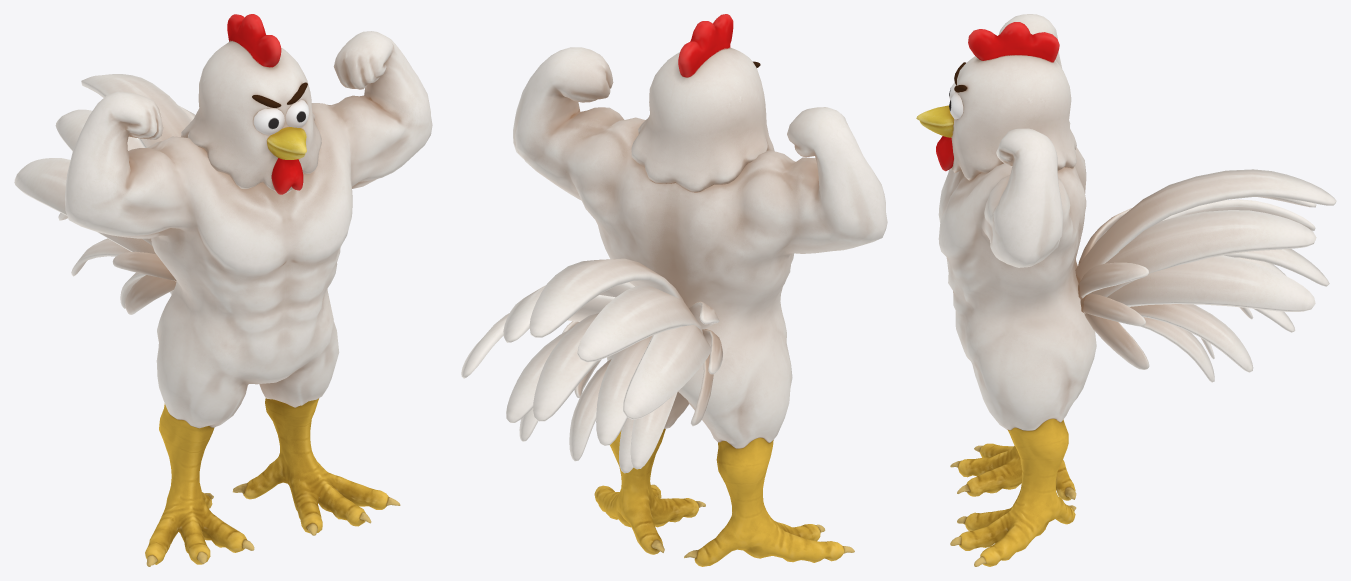
The model's file is strong_chicken.glb.
3 views of the same model, side by side, from view 1: azimuth 30°, elevation 25°; view 2: azimuth 150°, elevation 25°; view 3: azimuth 270°, elevation 25° (orthographic). The views are drawn at different scales.
Visible parts, largest first — view 1: Object006_Chicken_0, Object012_Chicken_0, Object029_Chicken_0, Object013_Chicken_0, Sphere001, Object034_Chicken_0, Object021_Chicken_0, Object033_Chicken_0, Box001, Object031_Chicken_0; view 2: Object006_Chicken_0, Object012_Chicken_0, Object021_Chicken_0, Object029_Chicken_0, Object013_Chicken_0, Object030_Chicken_0, Object035_Chicken_0, Object032_Chicken_0, Object031_Chicken_0, Object034_Chicken_0, Object033_Chicken_0; view 3: Object006_Chicken_0, Object012_Chicken_0, Object029_Chicken_0, Object021_Chicken_0, Object013_Chicken_0, Object031_Chicken_0, Object014_Chicken_0, Object032_Chicken_0, Object034_Chicken_0, Object035_Chicken_0, Object033_Chicken_0, Object030_Chicken_0.
Boxes of the visible parts, x1=… form: Object006_Chicken_0: x1=65, y1=31, x2=432, y2=566; Object012_Chicken_0: x1=181, y1=14, x2=321, y2=194; Object029_Chicken_0: x1=14, y1=158, x2=155, y2=254; Object013_Chicken_0: x1=81, y1=74, x2=191, y2=147; Sphere001: x1=253, y1=100, x2=309, y2=135; Object034_Chicken_0: x1=125, y1=275, x2=176, y2=314; Object021_Chicken_0: x1=55, y1=105, x2=195, y2=151; Object033_Chicken_0: x1=112, y1=251, x2=176, y2=281; Box001: x1=271, y1=158, x2=303, y2=194; Object031_Chicken_0: x1=71, y1=238, x2=131, y2=276; Object006_Chicken_0: x1=513, y1=47, x2=887, y2=566; Object012_Chicken_0: x1=631, y1=14, x2=774, y2=191; Object021_Chicken_0: x1=503, y1=282, x2=703, y2=362; Object029_Chicken_0: x1=461, y1=295, x2=711, y2=419; Object013_Chicken_0: x1=529, y1=258, x2=683, y2=337; Object030_Chicken_0: x1=506, y1=328, x2=652, y2=445; Object035_Chicken_0: x1=533, y1=313, x2=599, y2=421; Object032_Chicken_0: x1=569, y1=359, x2=633, y2=473; Object031_Chicken_0: x1=519, y1=391, x2=677, y2=469; Object034_Chicken_0: x1=574, y1=354, x2=713, y2=426; Object033_Chicken_0: x1=562, y1=321, x2=722, y2=374; Object006_Chicken_0: x1=938, y1=14, x2=1096, y2=566; Object012_Chicken_0: x1=916, y1=22, x2=1076, y2=180; Object029_Chicken_0: x1=1107, y1=199, x2=1315, y2=311; Object021_Chicken_0: x1=1089, y1=197, x2=1316, y2=297; Object013_Chicken_0: x1=1075, y1=169, x2=1336, y2=283; Object031_Chicken_0: x1=1130, y1=304, x2=1253, y2=372; Object014_Chicken_0: x1=1078, y1=208, x2=1148, y2=299; Object032_Chicken_0: x1=1141, y1=317, x2=1214, y2=382; Object034_Chicken_0: x1=1084, y1=313, x2=1149, y2=369; Object035_Chicken_0: x1=1224, y1=249, x2=1329, y2=286; Object033_Chicken_0: x1=1080, y1=294, x2=1145, y2=326; Object030_Chicken_0: x1=1236, y1=257, x2=1295, y2=332.
Bounding box in the file's own units: 2.11 × 2.83 × 2.19.
1 material, 1 textured.
